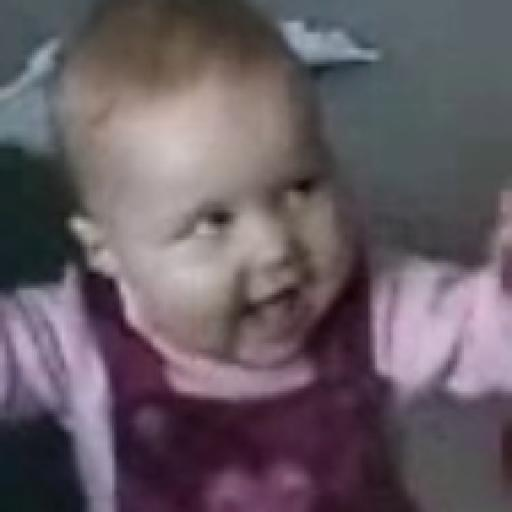Autism: (81, 18, 399, 410)
